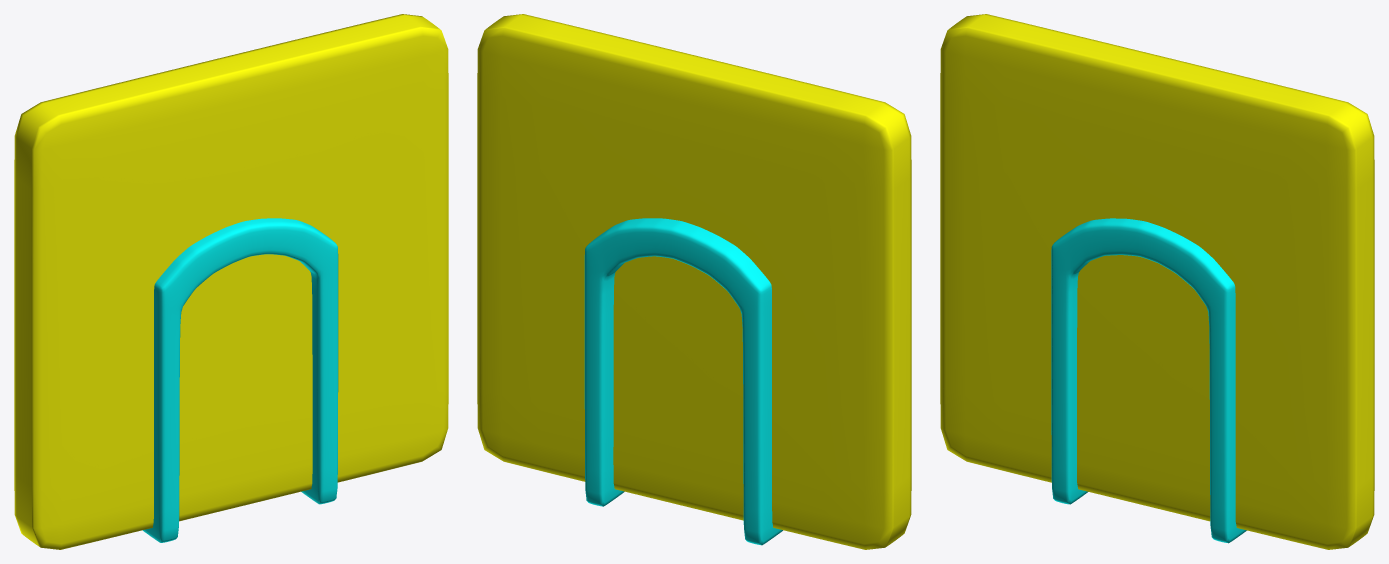
3 views of the same model, side by side, from view 1: azimuth 30°, elevation 25°; view 2: azimuth 150°, elevation 25°; view 3: azimuth 330°, elevation 25° (orthographic).
Visible parts, largest first — view 1: polySurface1020; view 2: polySurface1020; view 3: polySurface1020.
Part boxes in pixels (x1=…): polySurface1020: x1=14, y1=14, x2=448, y2=549; polySurface1020: x1=477, y1=14, x2=911, y2=549; polySurface1020: x1=940, y1=14, x2=1374, y2=549.
Size of the model in its own units: 0.9994 by 1.03 by 0.1741.
